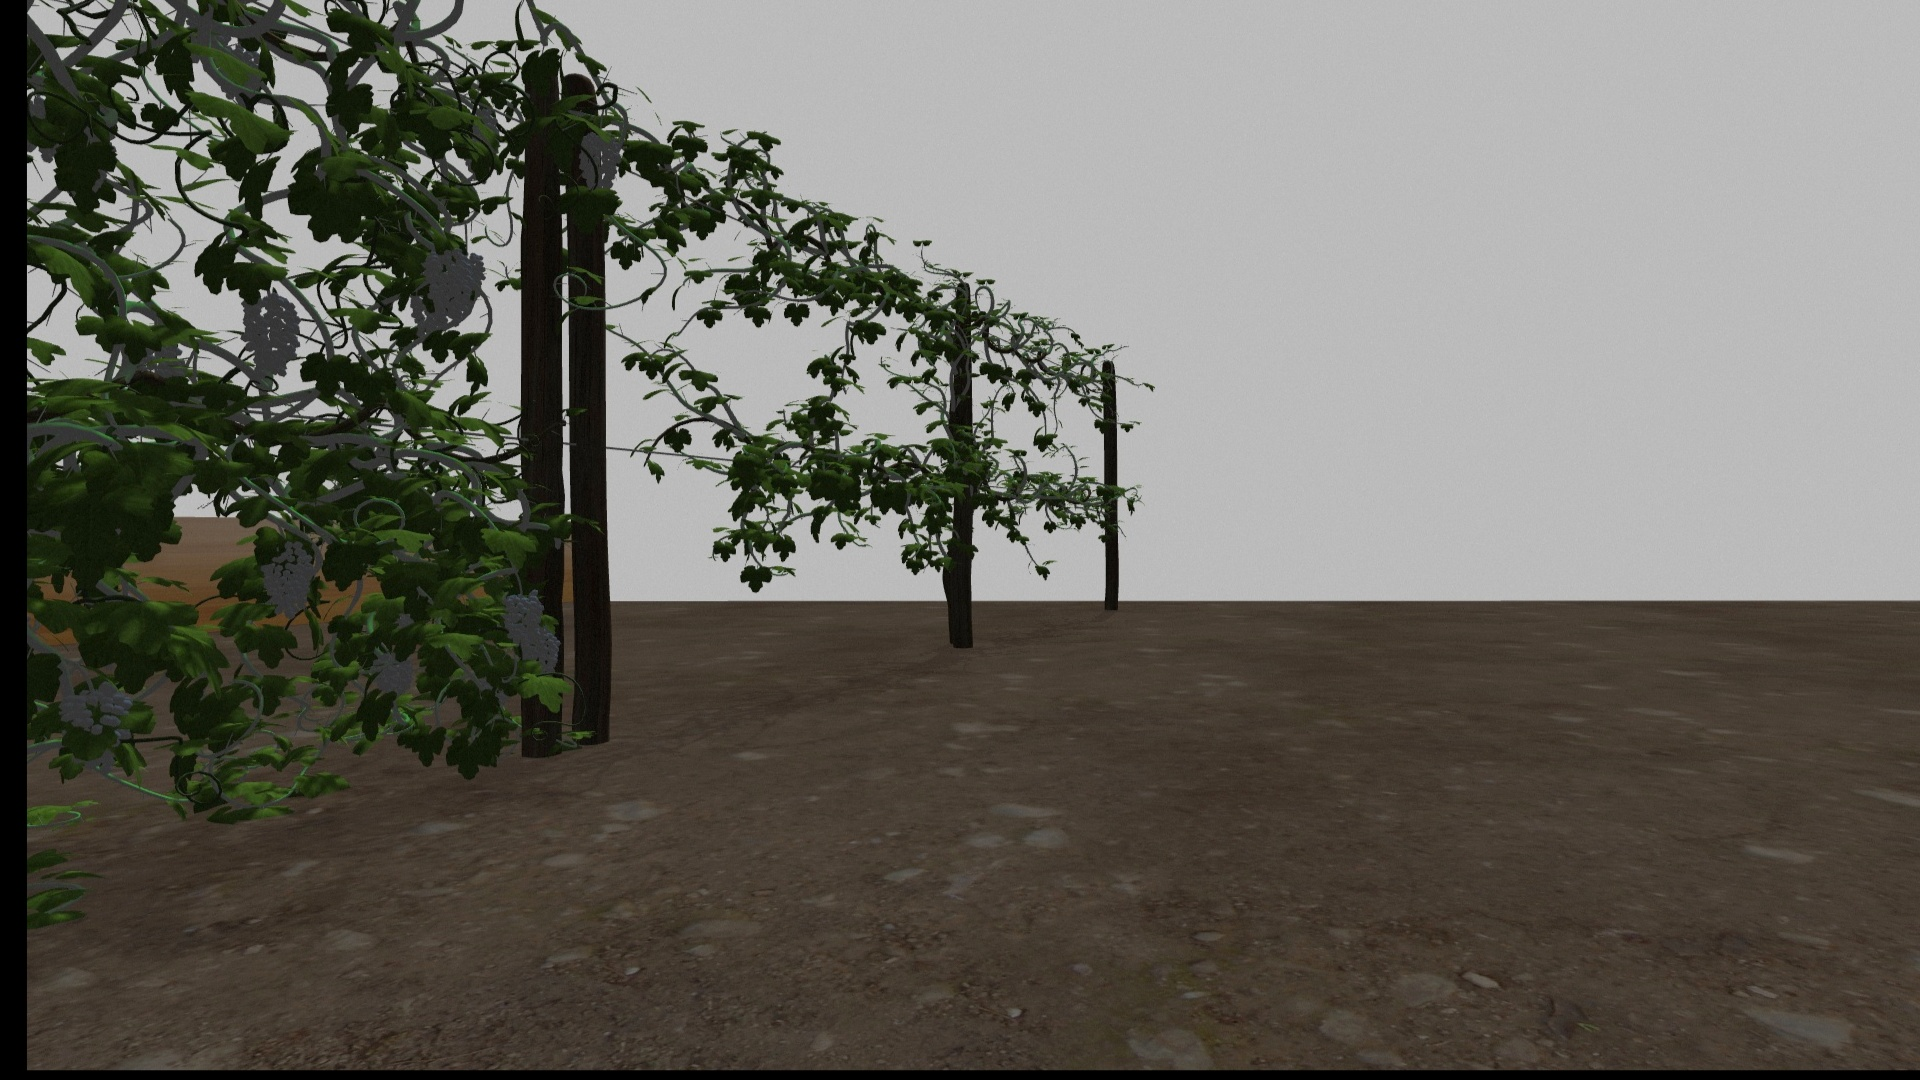grape: (419, 247, 485, 328), (260, 541, 314, 624), (247, 295, 301, 376), (57, 680, 131, 736), (578, 131, 621, 191), (502, 591, 542, 645), (373, 651, 413, 702), (521, 632, 560, 676)
